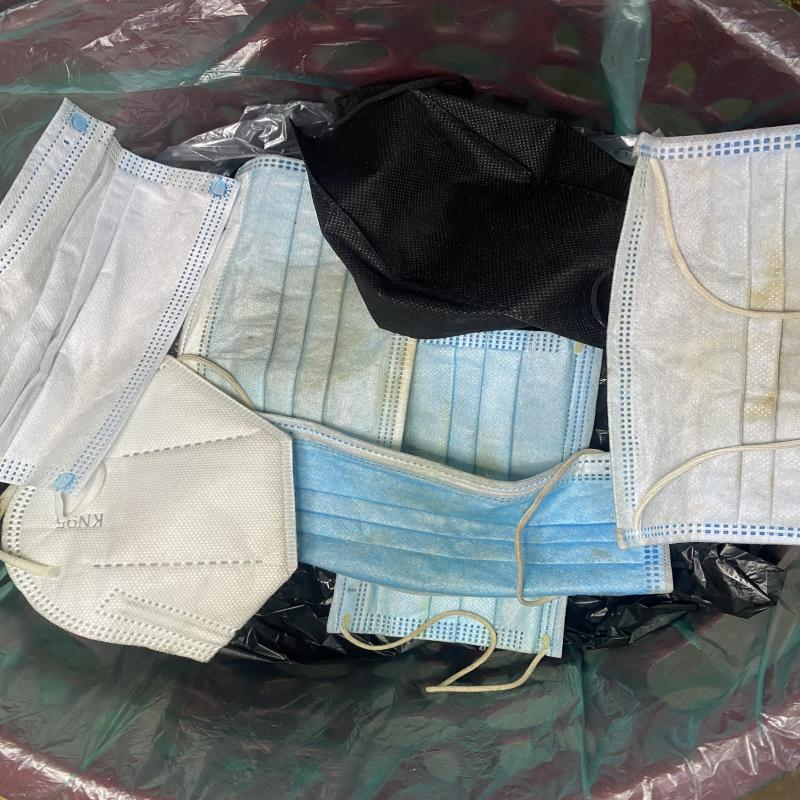facemask: (0, 100, 239, 496), (0, 357, 299, 665), (296, 77, 633, 350), (606, 124, 800, 548), (255, 411, 674, 599), (177, 155, 418, 451), (402, 330, 602, 482), (327, 574, 568, 658)
